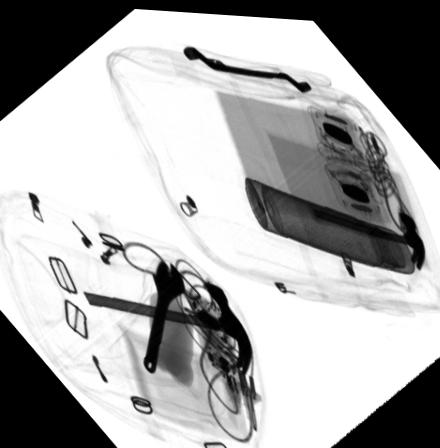Hammer: (82, 280, 253, 371), (301, 194, 427, 265)
Wrench: (181, 43, 313, 90), (142, 257, 185, 373)
